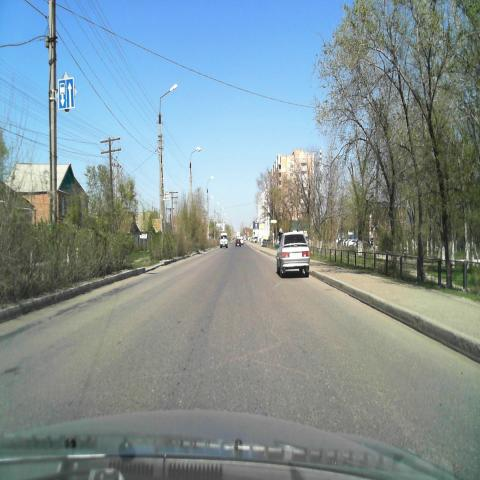5_11: (59, 78, 75, 110)
